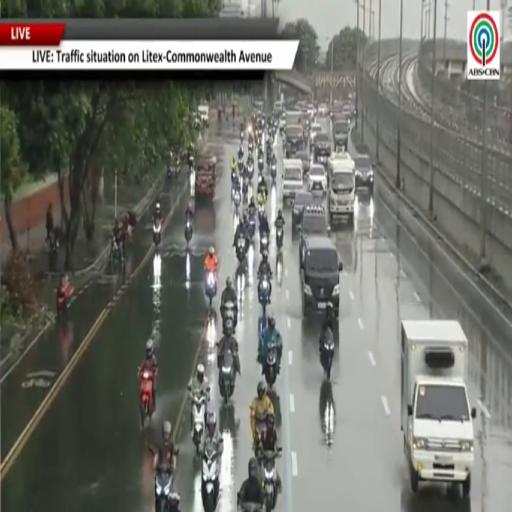car: (301, 236, 342, 316), (299, 204, 330, 261), (282, 159, 303, 202), (292, 191, 314, 230), (354, 155, 373, 193), (285, 124, 303, 157), (313, 133, 331, 164), (333, 118, 350, 150), (308, 164, 327, 191), (295, 147, 310, 174), (309, 123, 322, 145), (198, 104, 209, 126), (318, 104, 328, 117)
motorcycle: (262, 447, 281, 511), (202, 446, 219, 511), (155, 471, 179, 511), (192, 393, 206, 454), (219, 350, 235, 403), (140, 371, 154, 426), (320, 328, 335, 379), (56, 282, 73, 316), (264, 345, 277, 388), (221, 301, 237, 335), (258, 276, 270, 317), (205, 272, 217, 308), (110, 236, 123, 263), (236, 236, 247, 263), (256, 414, 266, 439), (184, 219, 193, 246), (153, 220, 161, 247), (240, 503, 263, 511), (260, 233, 269, 253), (233, 188, 241, 210), (276, 228, 283, 249), (266, 145, 272, 166), (258, 200, 264, 221), (249, 217, 255, 238), (242, 176, 248, 197), (231, 170, 237, 190), (270, 163, 276, 182), (247, 164, 253, 179), (258, 156, 263, 171), (238, 157, 243, 171), (189, 155, 194, 168), (248, 142, 253, 152), (240, 132, 244, 143)
truck: (400, 319, 476, 497), (327, 153, 355, 223), (195, 149, 216, 199)
